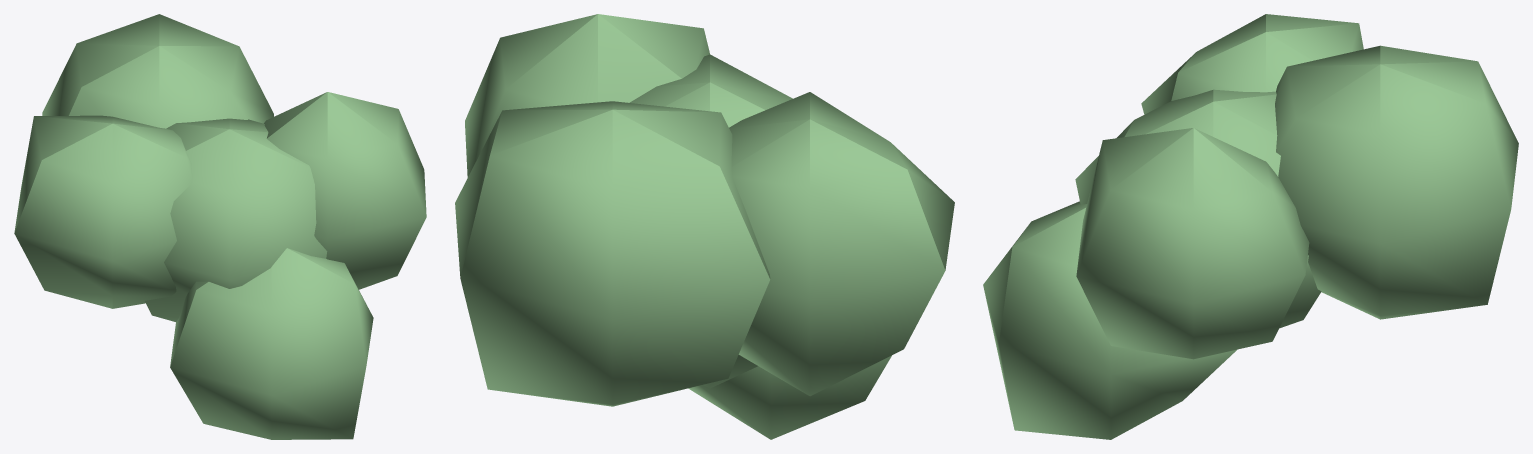
File: bush_round.glb
The picture shows the model from 3 angles, left to right: view 1: azimuth 30°, elevation 25°; view 2: azimuth 150°, elevation 25°; view 3: azimuth 270°, elevation 25°; orthographic projection. The views are drawn at different scales.
Visible parts, largest first — view 1: bush-round; view 2: bush-round; view 3: bush-round.
Boxes of the visible parts, box(x1,y1,x2,y2) form: bush-round: box(14, 14, 426, 439); bush-round: box(455, 14, 954, 439); bush-round: box(983, 14, 1518, 439).
Size of the model in its own units: 1.24 by 0.9406 by 1.28.
